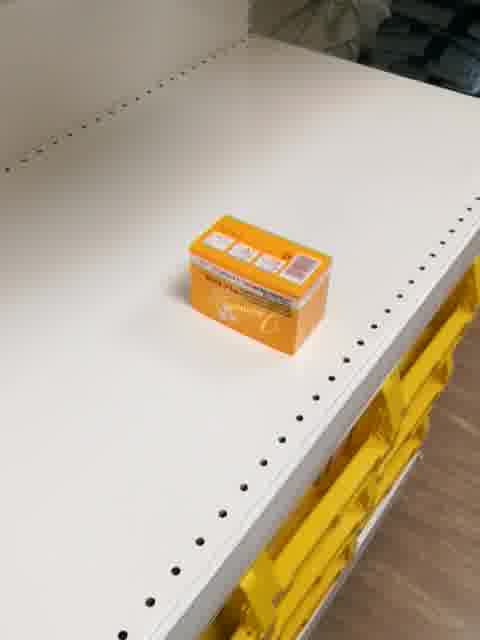jasminetea: (187, 213, 335, 356)
